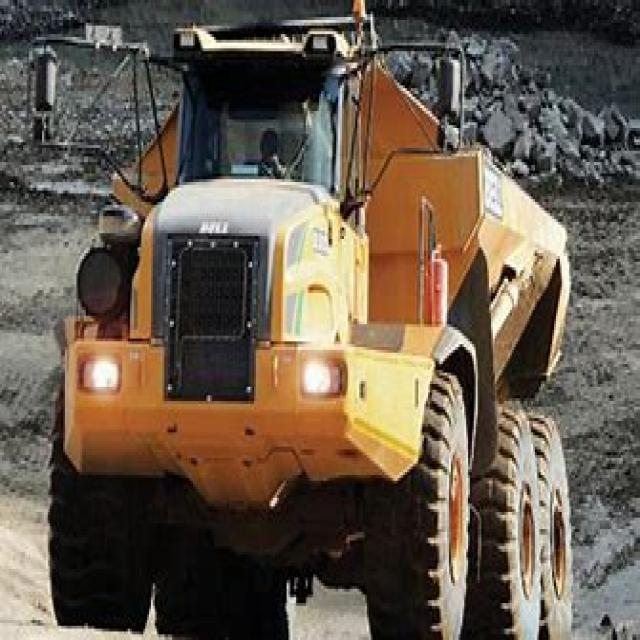dump_truck: (29, 14, 579, 637)
